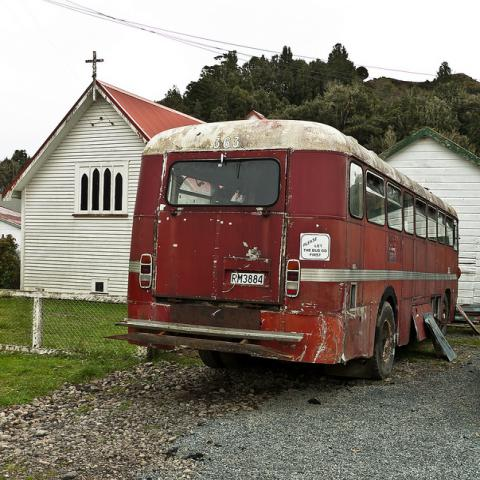bus: (103, 119, 462, 378)
